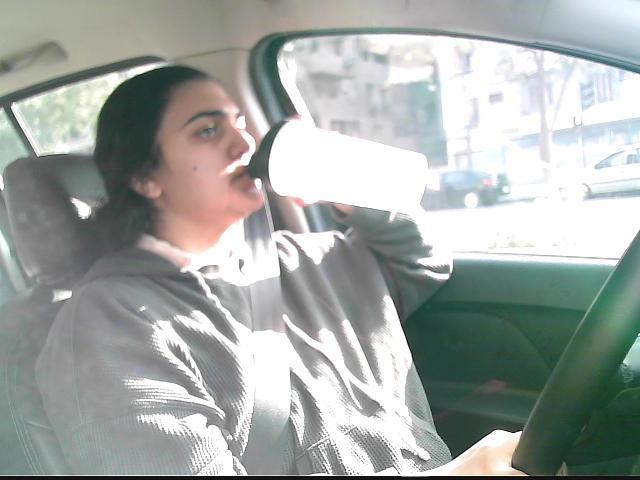Drinking: (244, 110, 430, 214)
